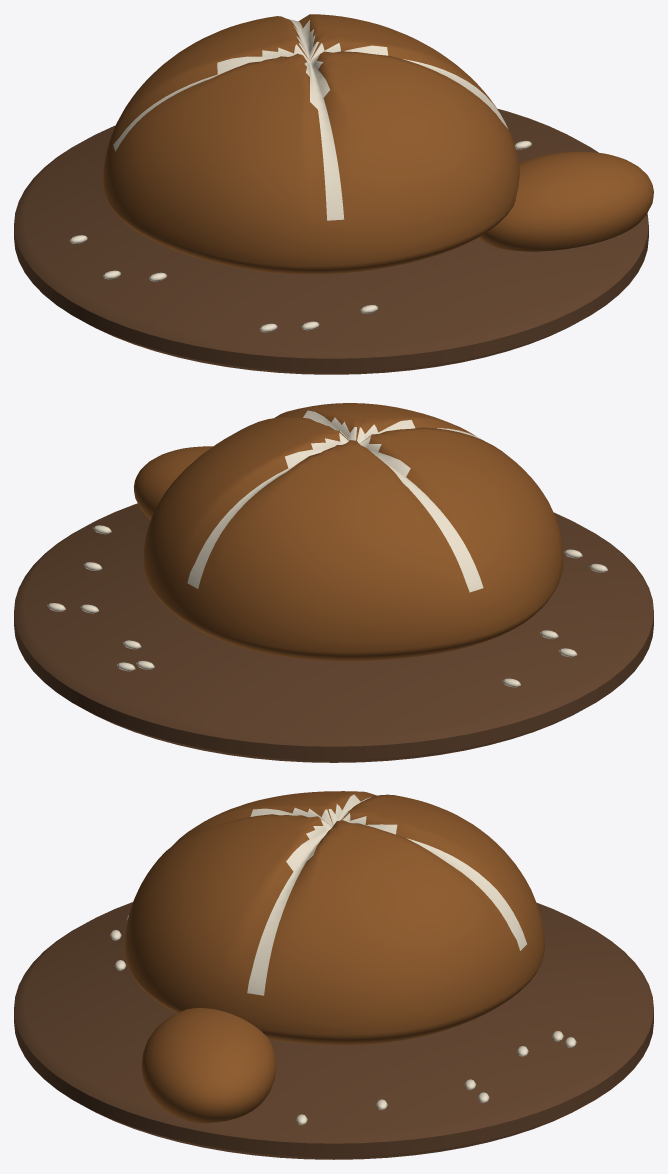
The model's file is bread.glb.
The picture shows the model from 3 angles, top to bottom: view 1: azimuth 30°, elevation 25°; view 2: azimuth 150°, elevation 25°; view 3: azimuth 270°, elevation 25°; orthographic projection.
Visible parts, largest first — view 1: loaf, board, Sphere; view 2: loaf, board, Sphere; view 3: loaf, board, Sphere.
Part boxes in pixels (x1,y1,x2,y2): loaf: (103,14,519,274); board: (14,108,648,374); Sphere: (478,151,653,251); loaf: (143,403,563,661); board: (14,503,653,762); Sphere: (134,446,212,519); loaf: (125,791,544,1044); board: (14,902,653,1159); Sphere: (141,1008,276,1123).
Bounding box in the file's own units: 1.28 × 0.4503 × 1.28.
